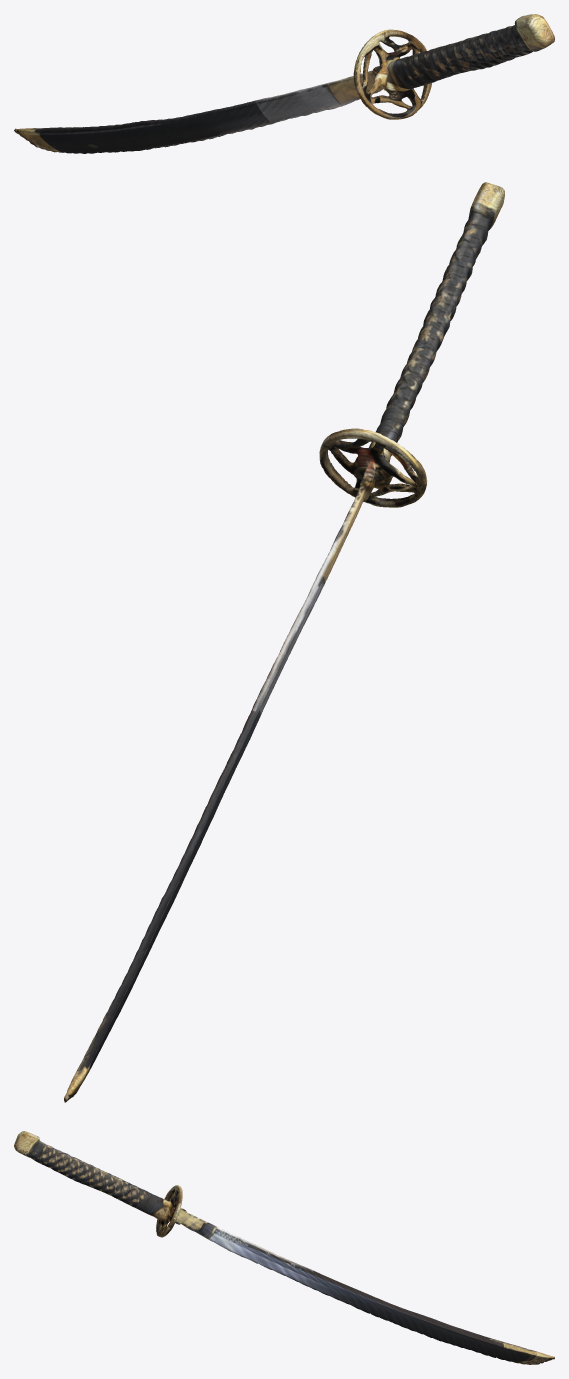
File: AI_TraditionalKatana.fbx
3 views of the same model, one above another, from view 1: azimuth 30°, elevation 25°; view 2: azimuth 150°, elevation 25°; view 3: azimuth 270°, elevation 25° (orthographic). The views are drawn at different scales.
Parts seen in each view (by area): view 1: Mesh1; view 2: Mesh1; view 3: Mesh1.
Boxes of the visible parts, box(x1,y1,x2,y2) form: Mesh1: box(14, 14, 554, 153); Mesh1: box(64, 182, 504, 1102); Mesh1: box(14, 1131, 554, 1364).
Bounding box in the file's own units: 27.21 × 104 × 200.
Materials: 1 (1 with a texture image).
